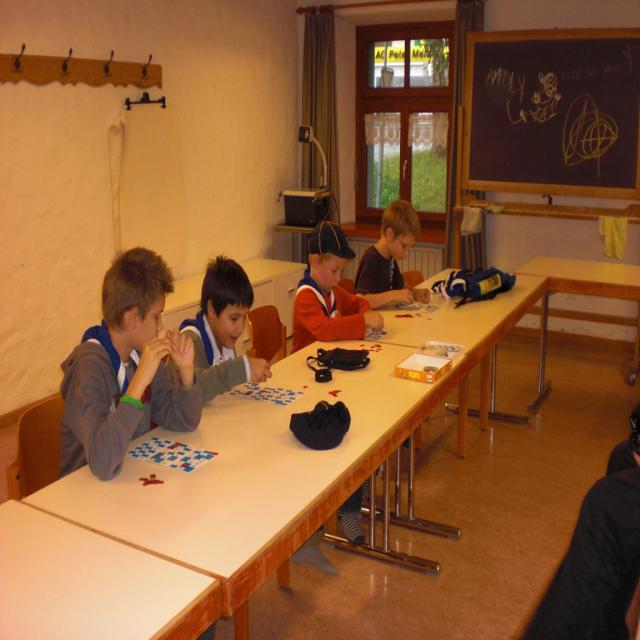chair: (15, 392, 64, 502), (248, 304, 285, 365)
desk: (168, 266, 564, 600)
person: (56, 246, 204, 482), (522, 405, 640, 639), (177, 254, 272, 404), (290, 219, 392, 355), (353, 199, 428, 310)
tv: (464, 31, 640, 212)
